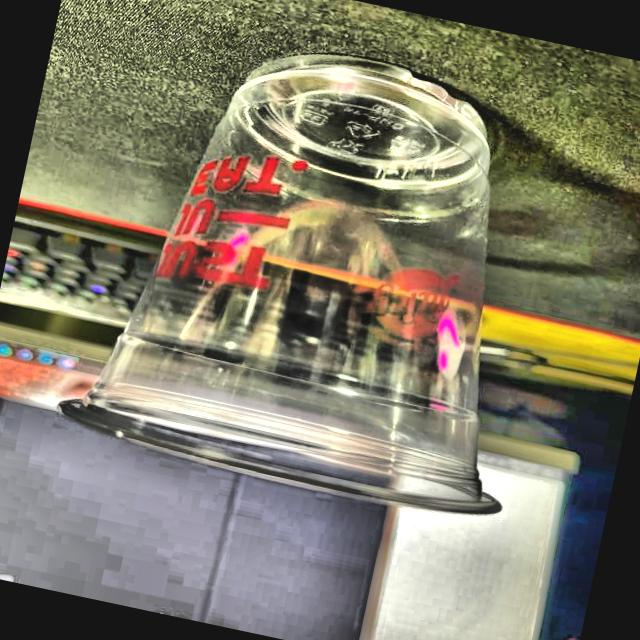plastic cup: (42, 6, 588, 530)
